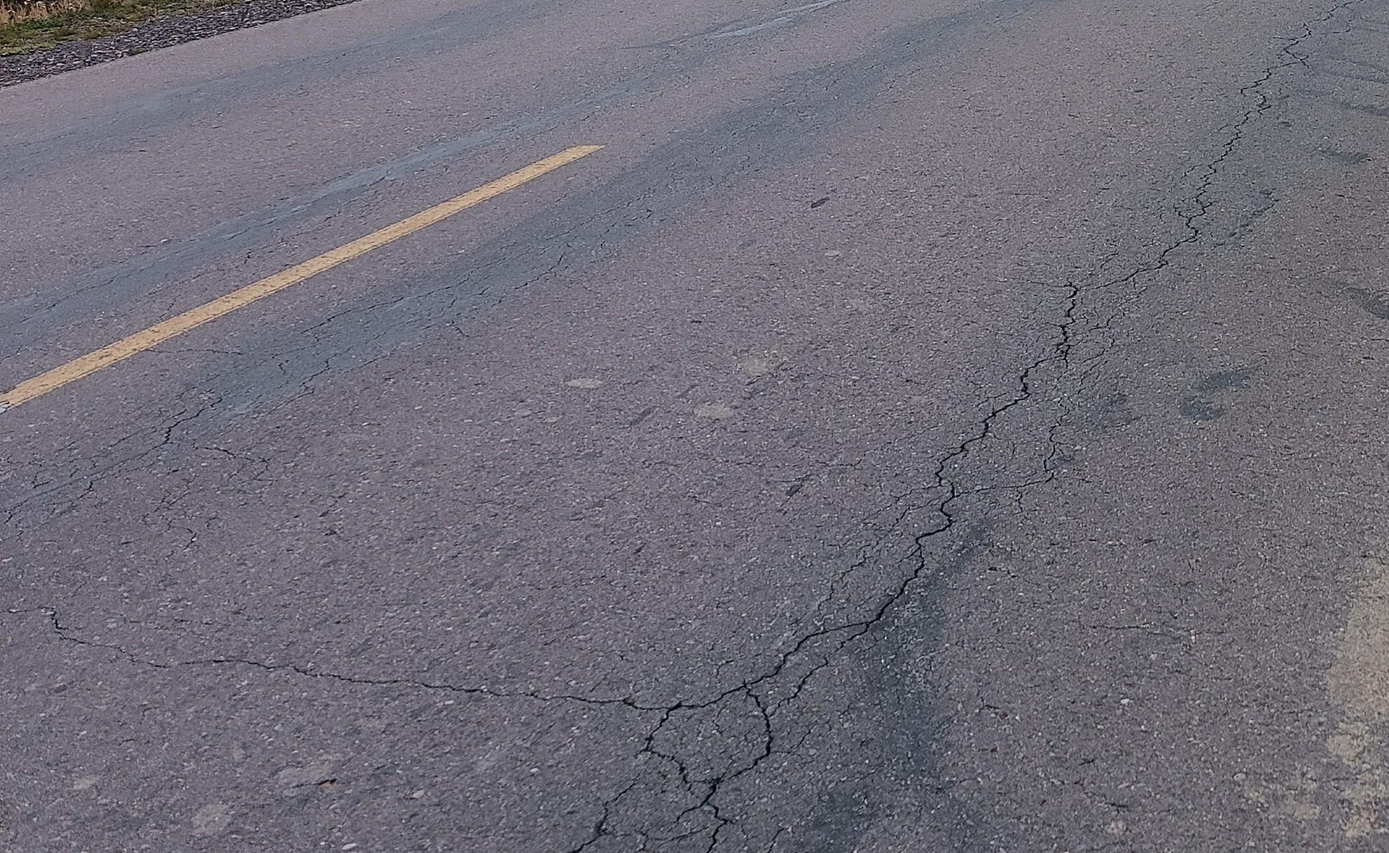GRIETA: (4, 606, 636, 707)
PIEL DE COCODRILO: (565, 0, 1360, 852), (0, 185, 669, 584)
